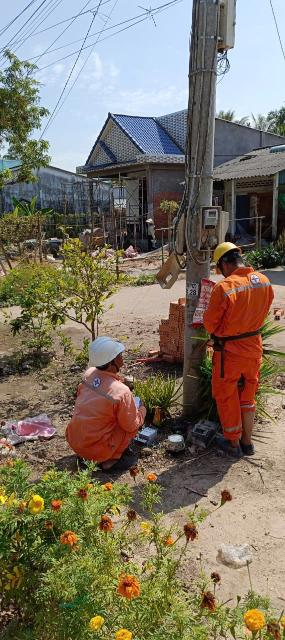harness: (207, 328, 280, 347)
helmet: (83, 327, 146, 375), (206, 237, 256, 278)
shoes: (213, 427, 247, 462), (99, 456, 143, 475), (235, 436, 263, 458)
